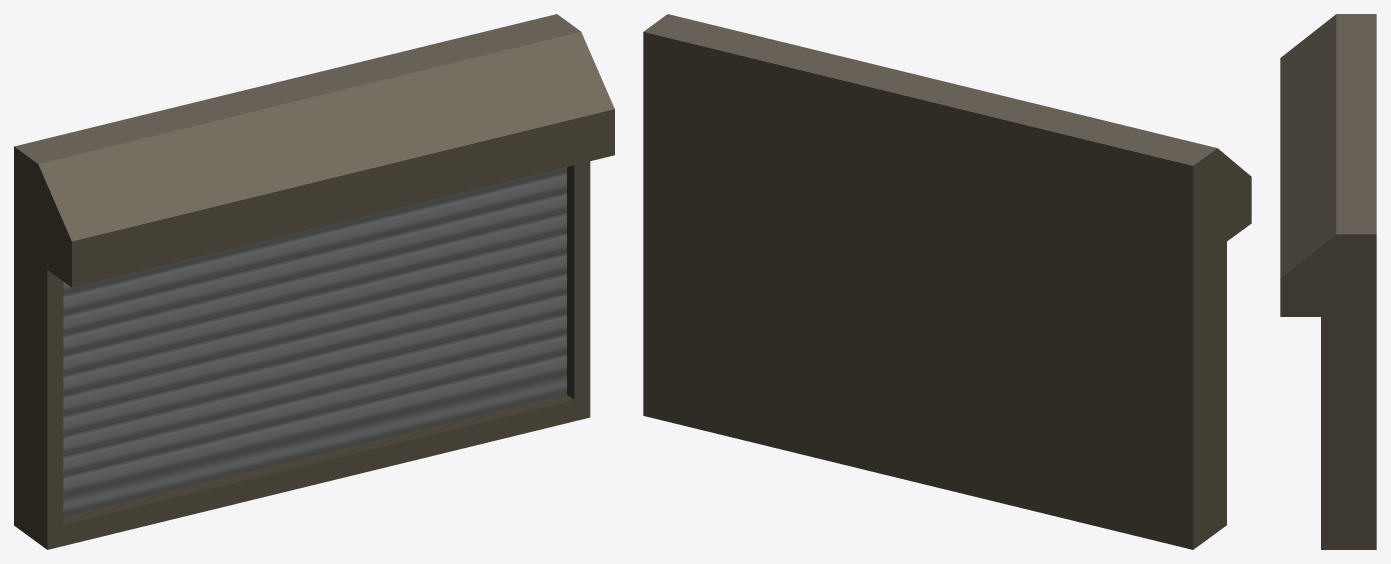
File: Window_C12.fbx
3 renders of one model, left to right at view 1: azimuth 30°, elevation 25°; view 2: azimuth 150°, elevation 25°; view 3: azimuth 270°, elevation 25°, orthographic. The views are drawn at different scales.
Visible parts, largest first — view 1: Window_C12; view 2: Window_C12; view 3: Window_C12.
Boxes of the visible parts, <box> form: Window_C12: <box>14,14,614,549</box>; Window_C12: <box>643,14,1251,549</box>; Window_C12: <box>1280,14,1376,549</box>.
Size of the model in its own units: 421 by 281 by 77.55.
